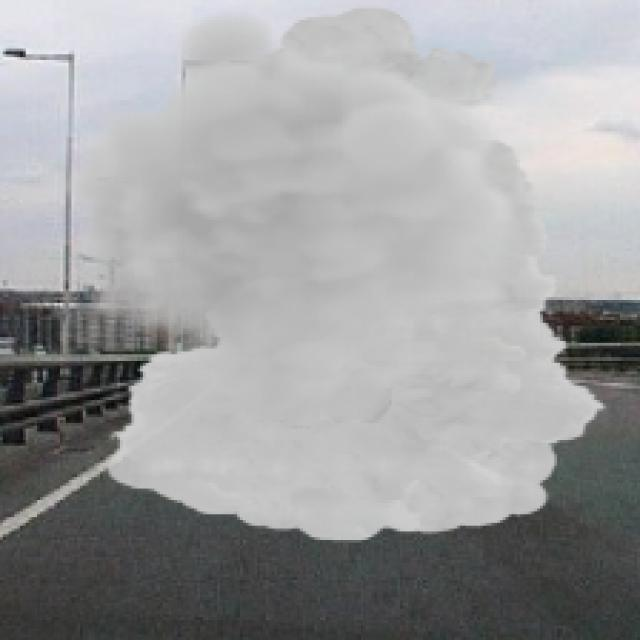smoke: (63, 6, 608, 543)
